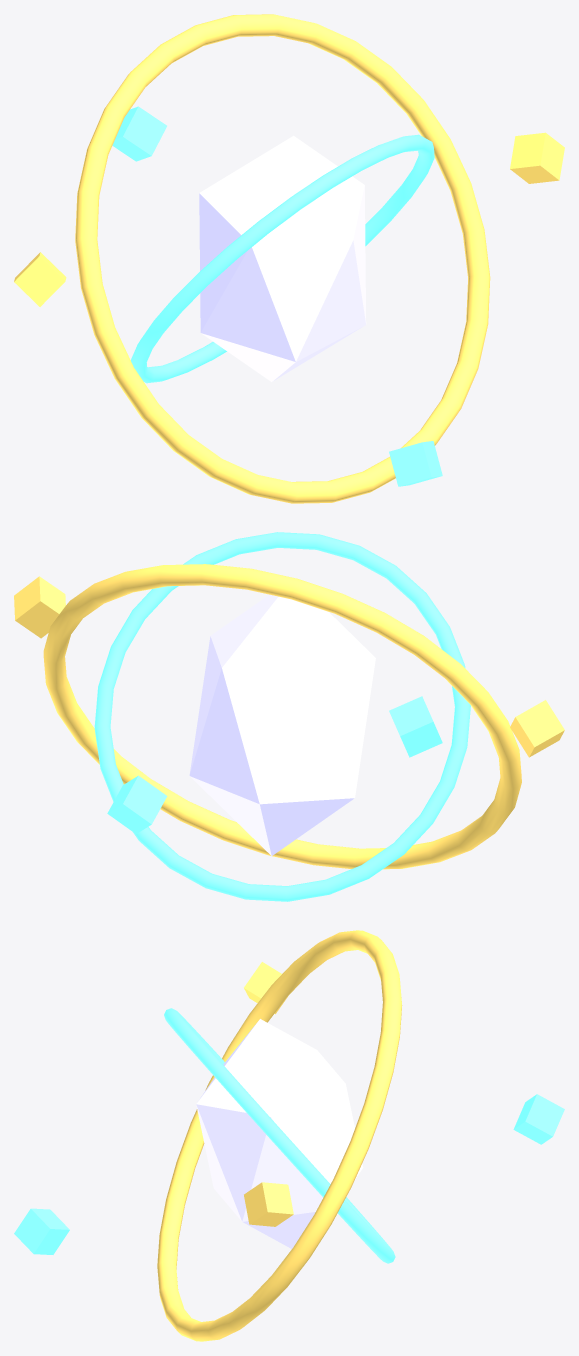
The model's file is papyrus_quest_emblem.glb.
The picture shows the model from 3 angles, top to bottom: view 1: azimuth 30°, elevation 25°; view 2: azimuth 150°, elevation 25°; view 3: azimuth 270°, elevation 25°; orthographic projection. The views are drawn at different scales.
Visible parts, largest first — view 1: Astrolabe_Ring_Outer, Quest_Crystal_Core, Astrolabe_Ring_Inner, Rune_Prism_1, Rune_Prism_2, Rune_Prism_4, Rune_Prism_3; view 2: Quest_Crystal_Core, Astrolabe_Ring_Outer, Astrolabe_Ring_Inner, Rune_Prism_1, Rune_Prism_2, Rune_Prism_4, Rune_Prism_3; view 3: Quest_Crystal_Core, Astrolabe_Ring_Outer, Astrolabe_Ring_Inner, Rune_Prism_1, Rune_Prism_4, Rune_Prism_2, Rune_Prism_3.
Part boxes in pixels (left/top/right/bottom): Astrolabe_Ring_Outer: left=75, top=14, right=490, bottom=503; Quest_Crystal_Core: left=199, top=135, right=366, bottom=381; Astrolabe_Ring_Inner: left=131, top=134, right=434, bottom=383; Rune_Prism_1: left=510, top=132, right=564, bottom=183; Rune_Prism_2: left=112, top=106, right=166, bottom=161; Rune_Prism_4: left=389, top=441, right=442, bottom=486; Rune_Prism_3: left=14, top=252, right=66, bottom=306; Quest_Crystal_Core: left=189, top=594, right=375, bottom=855; Astrolabe_Ring_Outer: left=43, top=564, right=521, bottom=869; Astrolabe_Ring_Inner: left=94, top=532, right=470, bottom=901; Rune_Prism_1: left=14, top=576, right=65, bottom=638; Rune_Prism_2: left=107, top=775, right=167, bottom=833; Rune_Prism_4: left=389, top=696, right=442, bottom=757; Rune_Prism_3: left=510, top=700, right=564, bottom=757; Quest_Crystal_Core: left=196, top=1019, right=363, bottom=1248; Astrolabe_Ring_Outer: left=157, top=930, right=402, bottom=1341; Astrolabe_Ring_Inner: left=164, top=1008, right=395, bottom=1263; Rune_Prism_1: left=244, top=1182, right=293, bottom=1226; Rune_Prism_4: left=14, top=1208, right=69, bottom=1254; Rune_Prism_2: left=513, top=1094, right=564, bottom=1144; Rune_Prism_3: left=244, top=962, right=287, bottom=1014.
Size of the model in its own units: 3.15 by 2.15 by 3.05.
